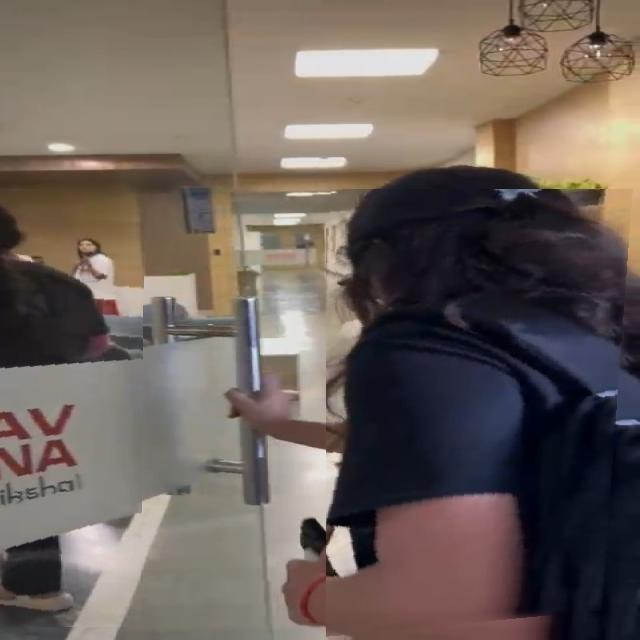moving_object: (326, 189, 635, 640), (0, 211, 144, 627)
